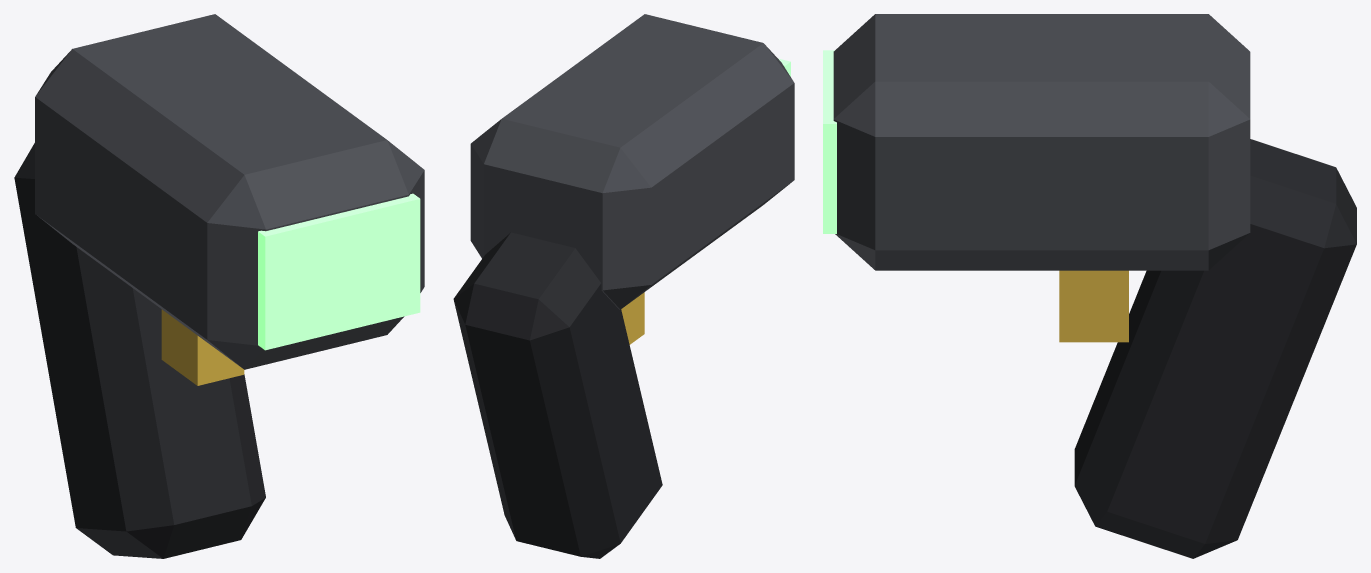
File: barcode_scanner.glb
3 renders of one model, left to right at view 1: azimuth 30°, elevation 25°; view 2: azimuth 150°, elevation 25°; view 3: azimuth 270°, elevation 25°, orthographic. The views are drawn at different scales.
Parts seen in each view (by area): view 1: barcode_scanner, barcode_scanner_window; view 2: barcode_scanner; view 3: barcode_scanner, barcode_scanner_window.
Boxes of the visible parts, left/top/right/bottom form: barcode_scanner: left=14, top=14, right=424, bottom=558; barcode_scanner_window: left=258, top=193, right=420, bottom=350; barcode_scanner: left=453, top=14, right=794, bottom=558; barcode_scanner: left=833, top=14, right=1356, bottom=558; barcode_scanner_window: left=823, top=50, right=836, bottom=233.
Size of the model in its own units: 0.07 by 0.1565 by 0.1536.
2 materials, 1 textured.
